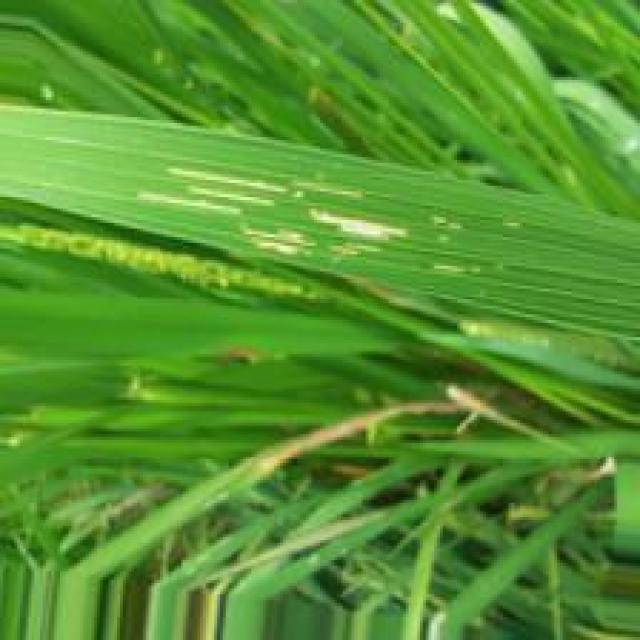Rice_Hispa: (308, 204, 402, 243), (249, 228, 298, 259)
